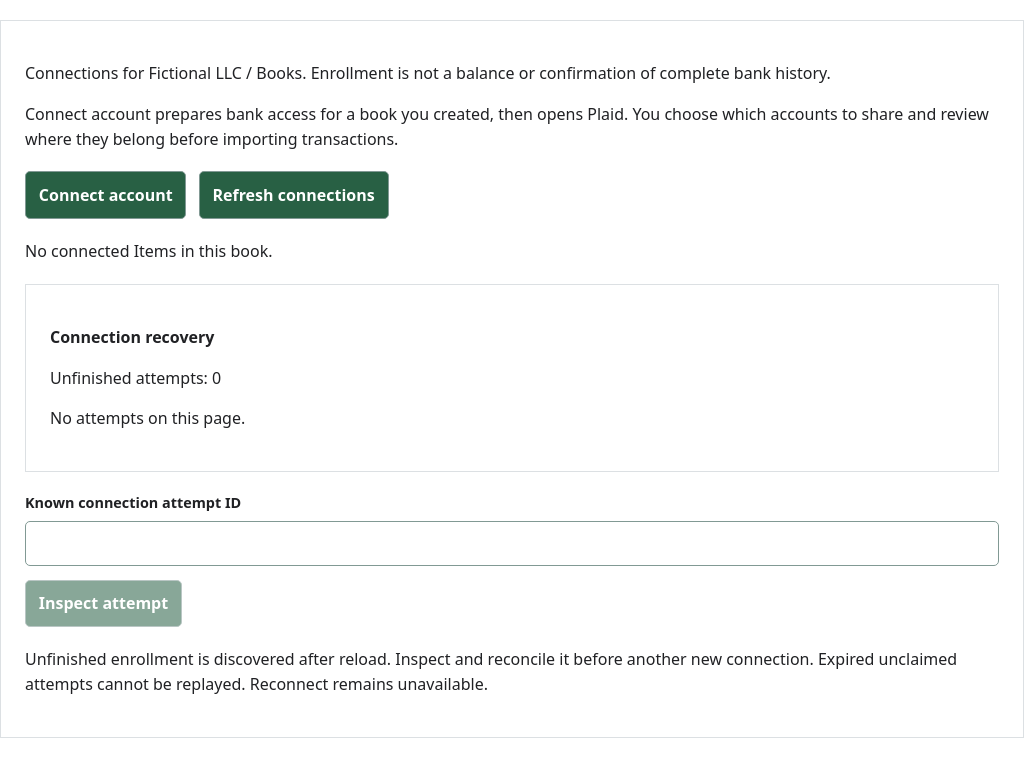
Test: TestConnectionsScopeAndRecovery rejects mismatched attempt identity
Expected: the text "No connected Items in this book." is shown, [25,240,272,262]
In the field labelled "Known connection attempt ID": point(512, 543) [25,521,999,566], type "00000000-0000-4000-8000-000000000005"
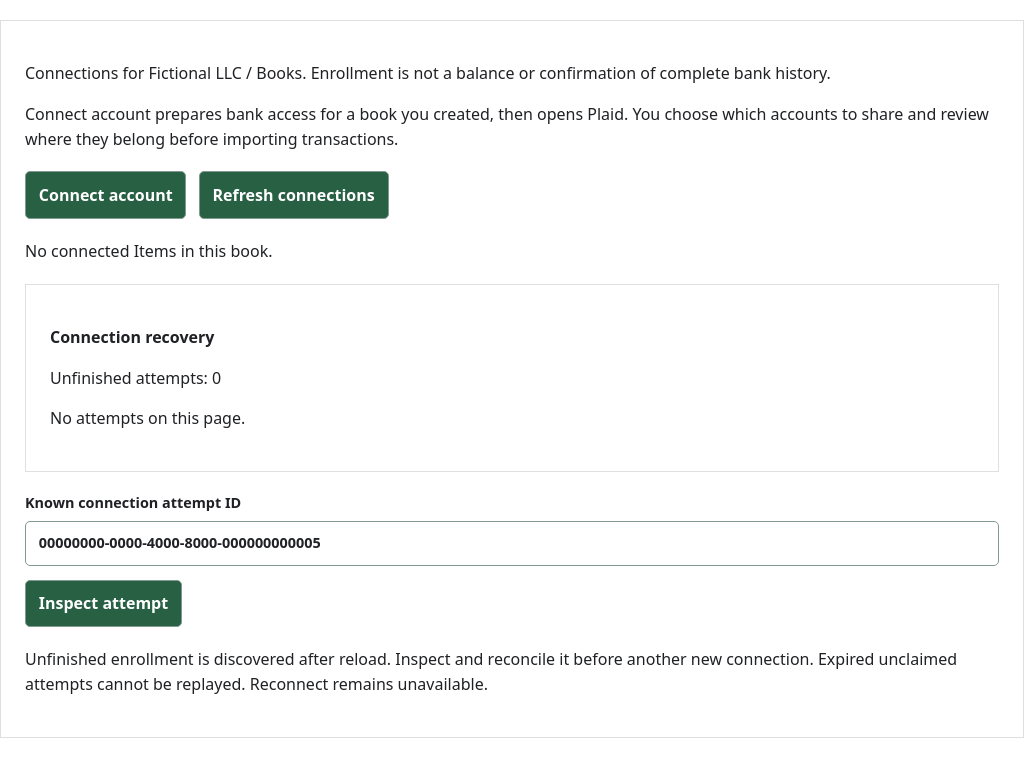
Click the button "Inspect attempt": point(104, 603) [25,580,182,627]
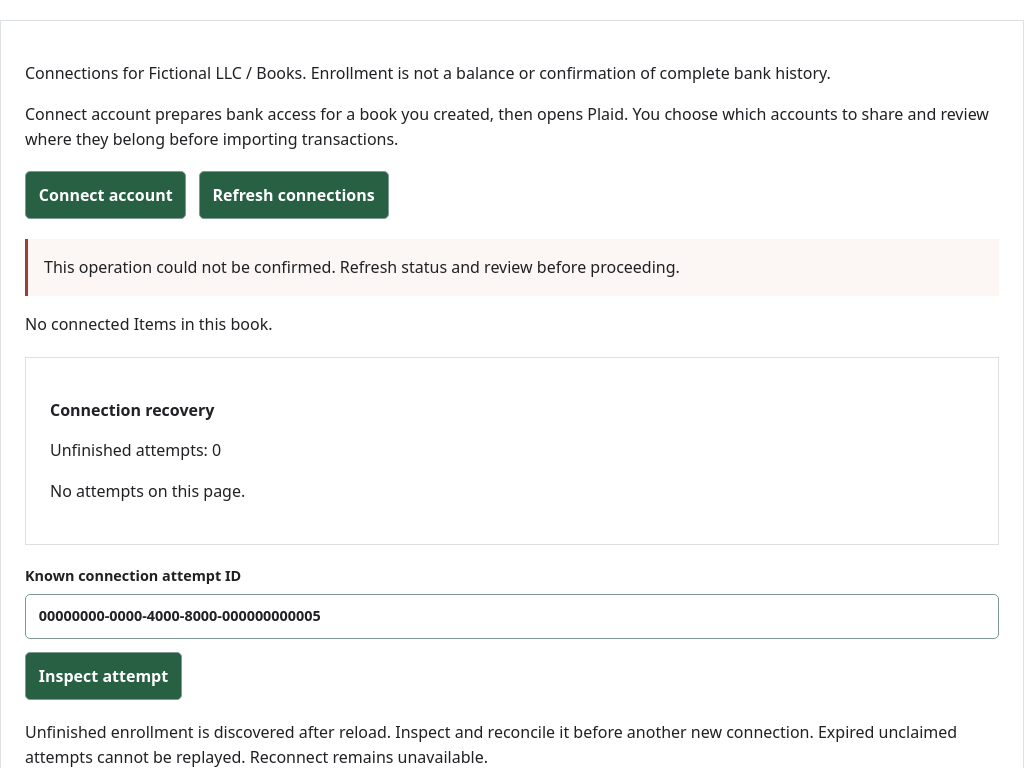
Expected: the message is shown, [25,239,999,296]
